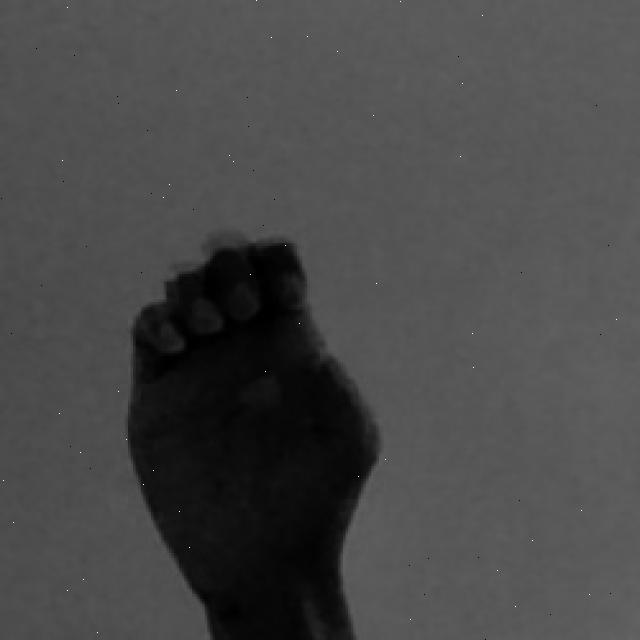E: (122, 224, 395, 640)
